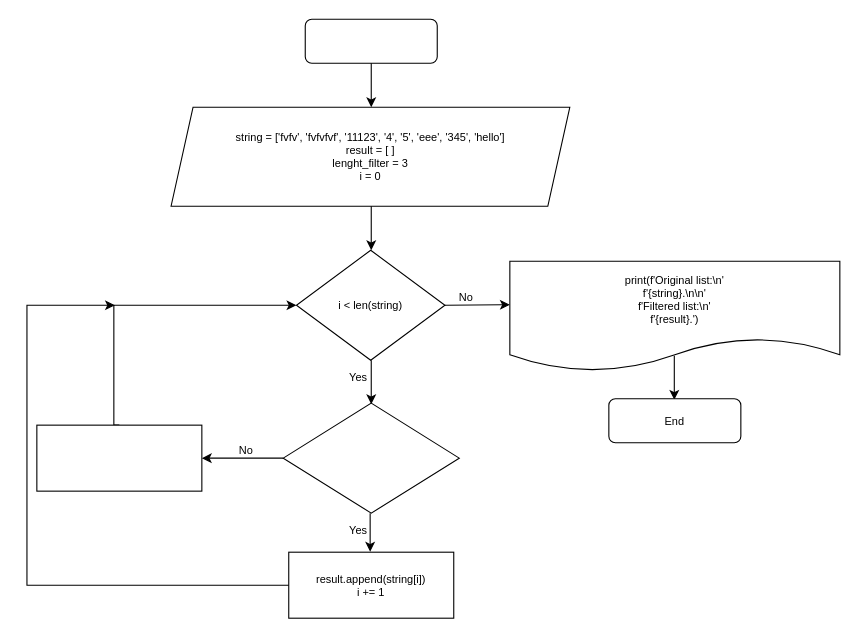
Image size: 859x638. Some labels were removed from this diagram. The box of each missing label's shape, as (x1, y1, x2, y2) in pixels:
i += 1: (36, 424, 202, 491)
Start: (304, 18, 437, 63)
string[i] <= lenght_filter: (282, 402, 459, 513)
